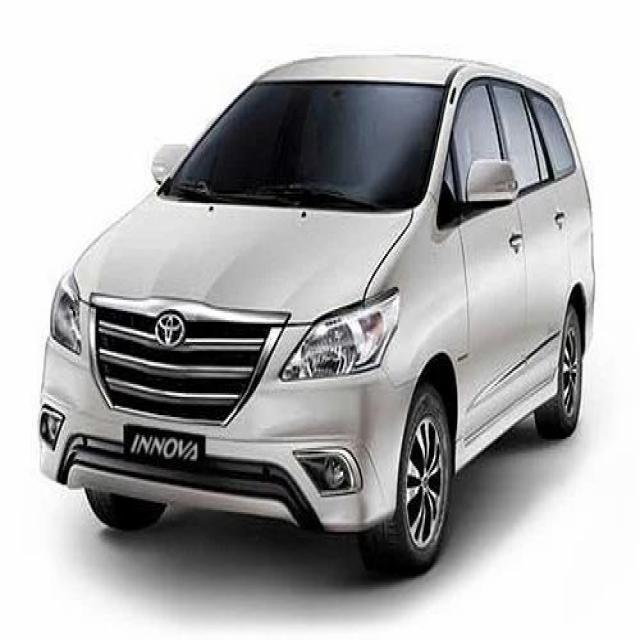light_vehicle: (36, 54, 596, 579)
